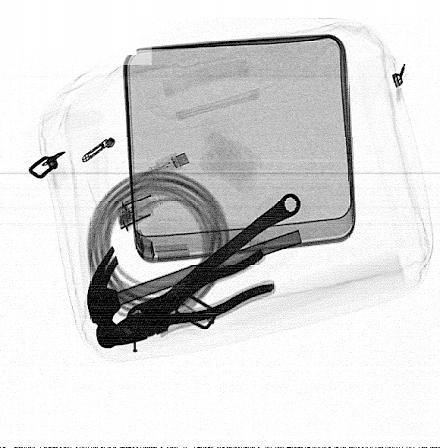Hammer: (87, 227, 304, 347)
Pliers: (106, 249, 276, 349)
Wrench: (124, 194, 299, 329)
